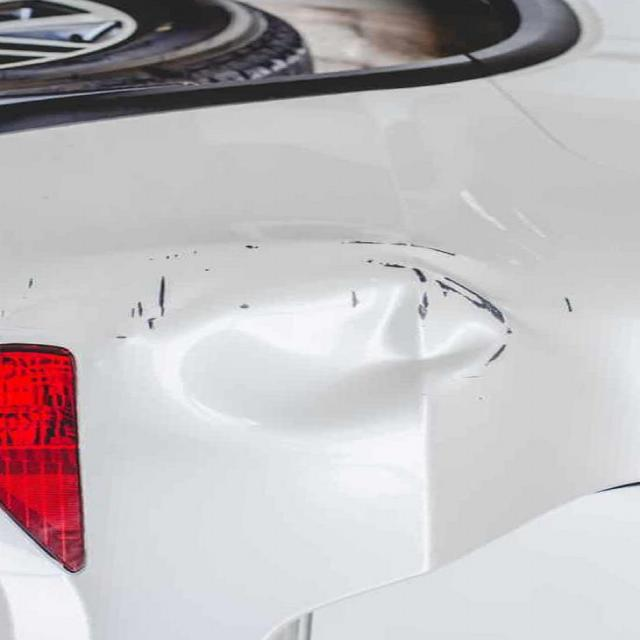dent: (80, 248, 580, 456)
